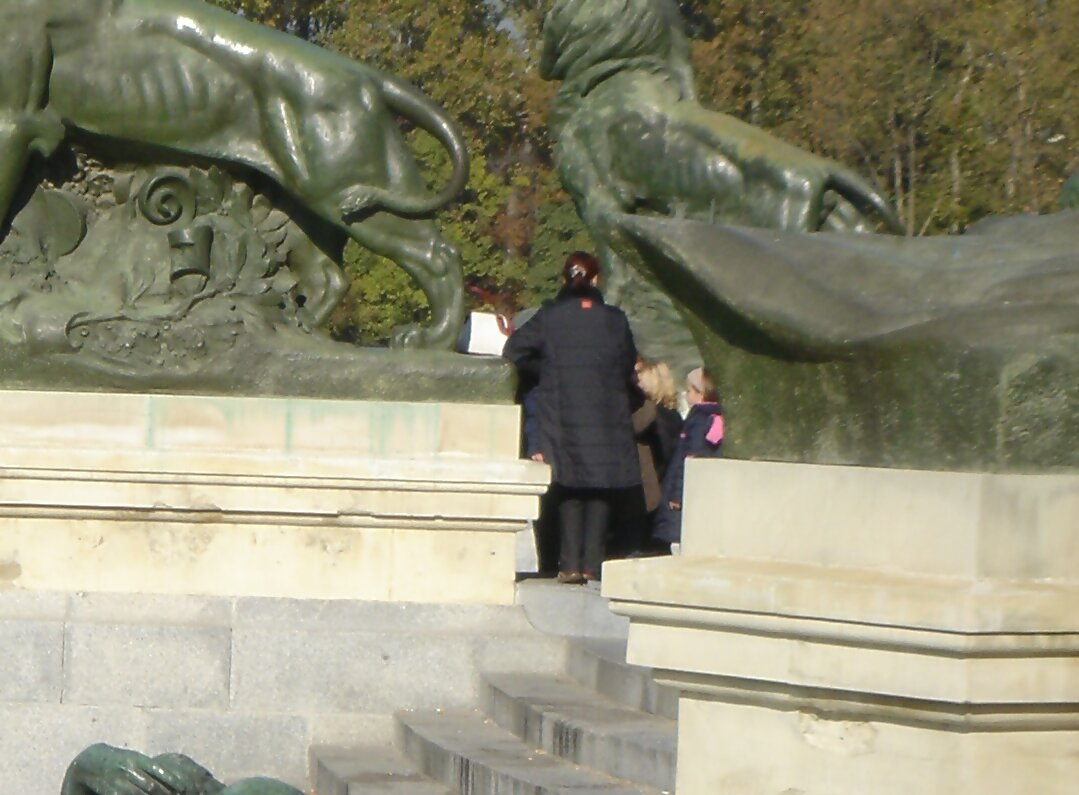person: (509, 248, 643, 587), (659, 356, 732, 555)
